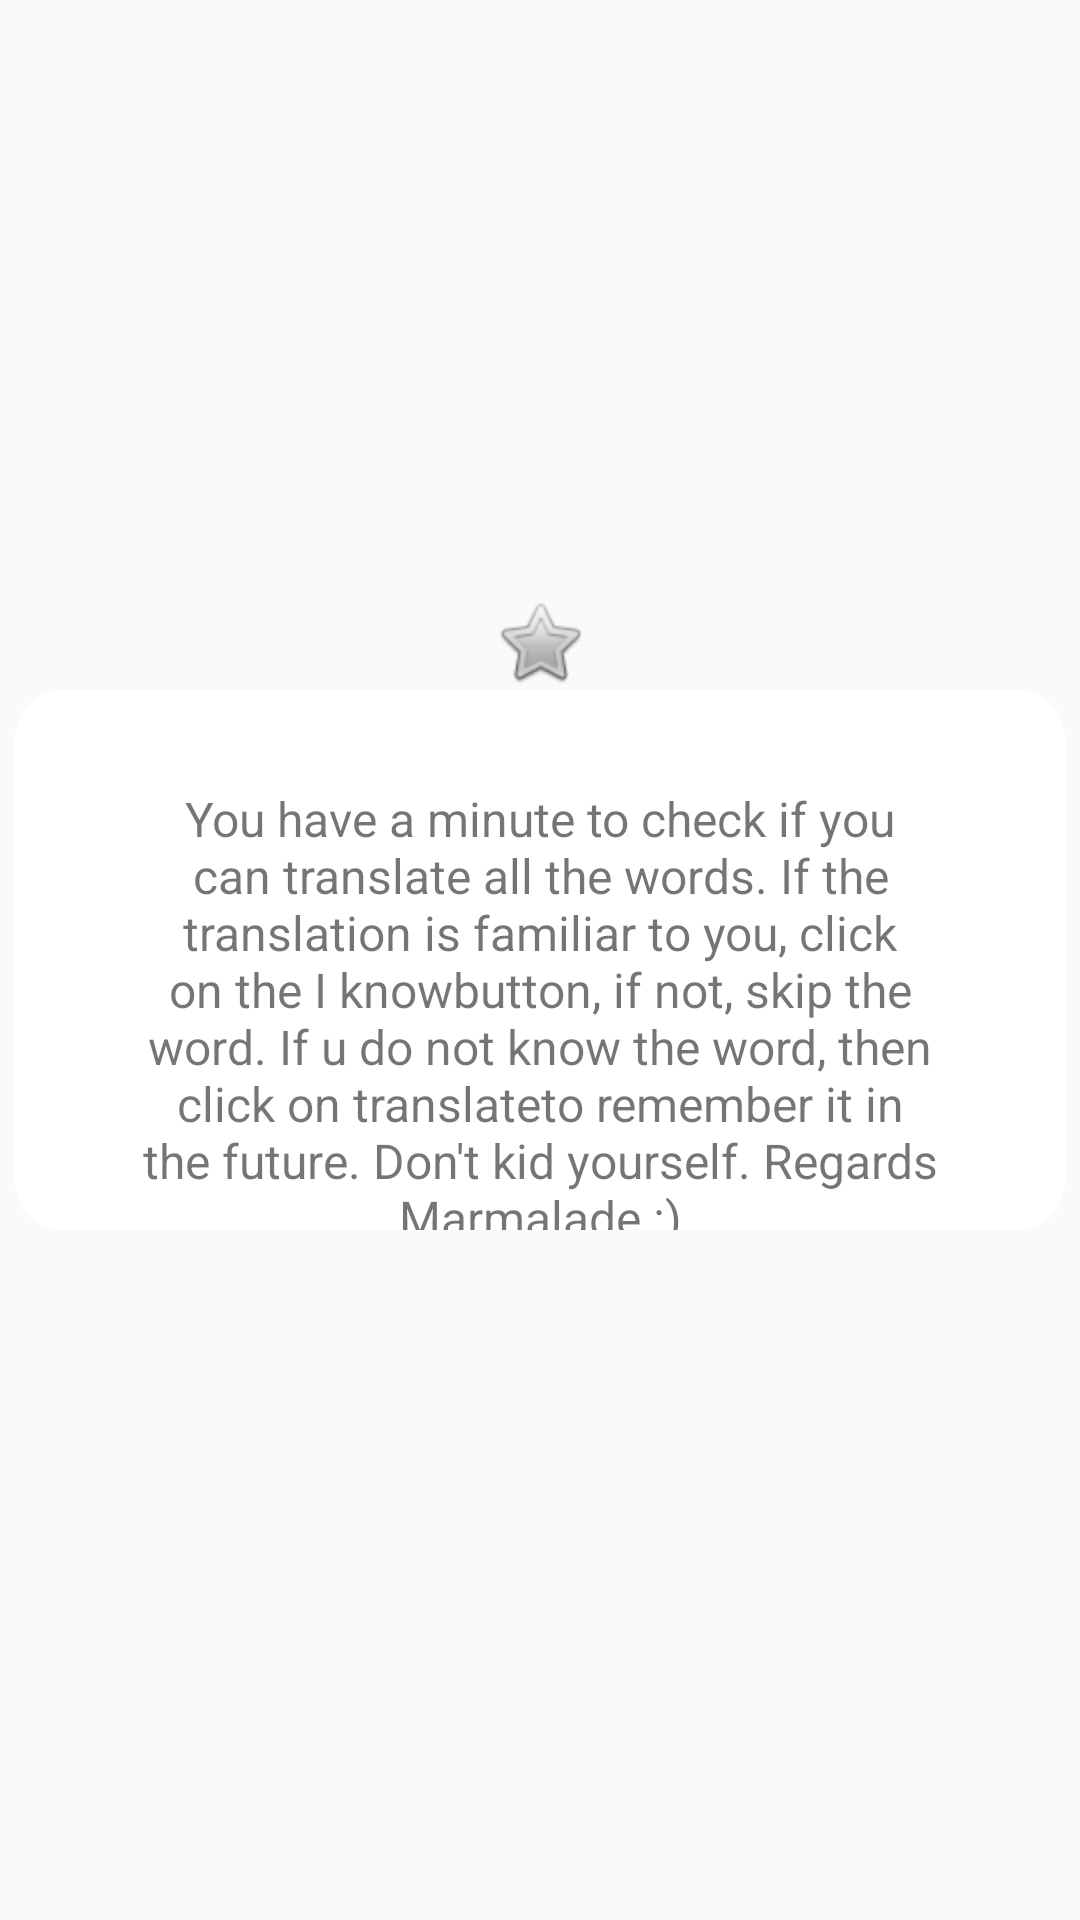

Icon click points for this 1080 × 1920 phone screenshot, format point (x, y):
star: point (541, 643)
